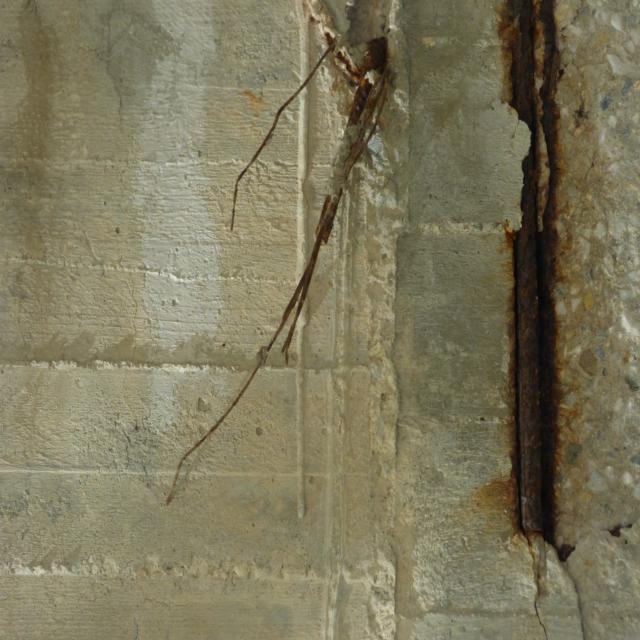corrosion: (161, 6, 402, 530), (453, 0, 623, 592)
